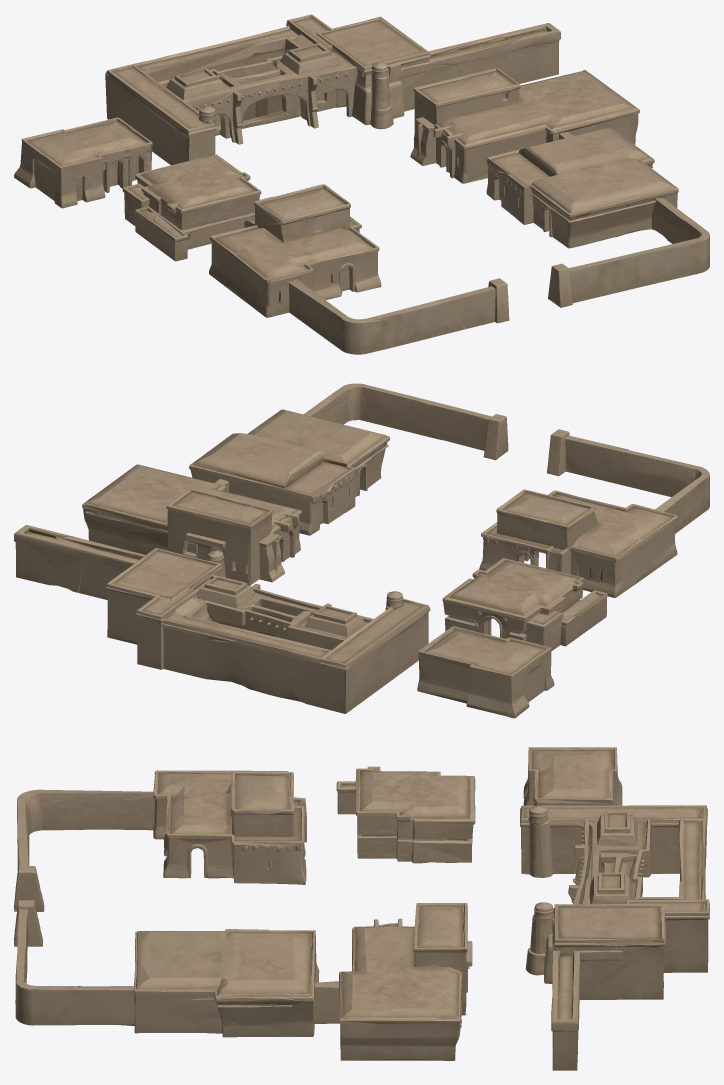
Rendered from niktocompound.glb.
The picture shows the model from 3 angles, top to bottom: view 1: azimuth 30°, elevation 25°; view 2: azimuth 150°, elevation 25°; view 3: azimuth 270°, elevation 25°; orthographic projection. The views are drawn at different scales.
Parts seen in each view (by area): view 1: niktocompound-centred; view 2: niktocompound-centred; view 3: niktocompound-centred.
Boxes of the visible parts, <box> form: niktocompound-centred: <box>14,14,709,354</box>; niktocompound-centred: <box>14,383,709,718</box>; niktocompound-centred: <box>14,747,709,1070</box>.
Size of the model in its own units: 57.82 by 6.67 by 60.
1 material, 1 textured.
